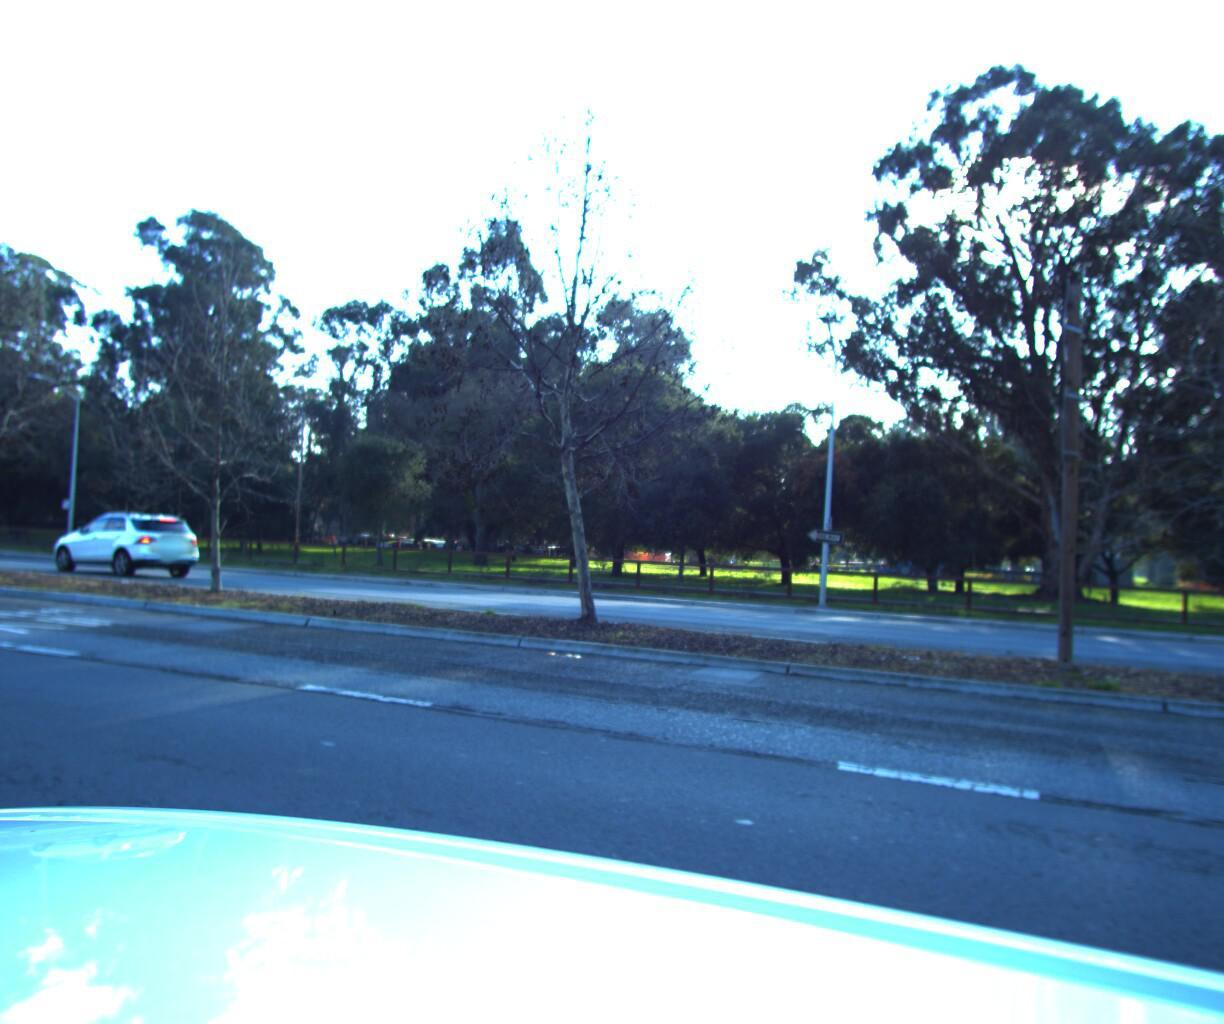car: (45, 505, 207, 575), (0, 503, 5, 557)
